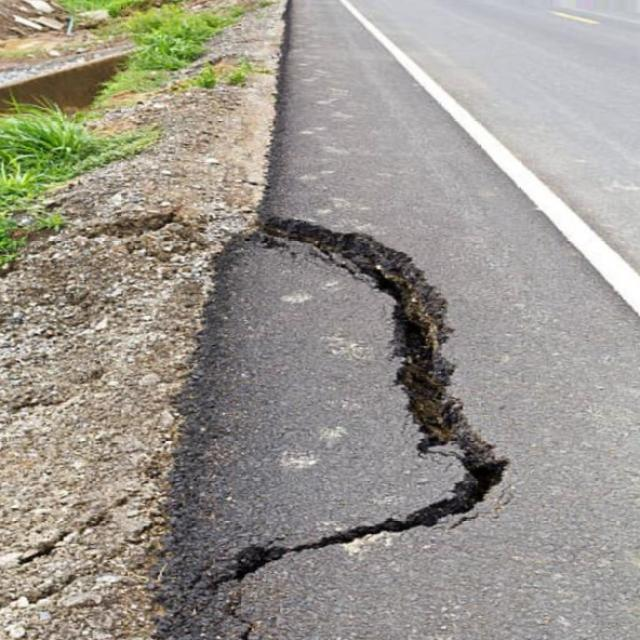Pinggir: (118, 205, 517, 592)
